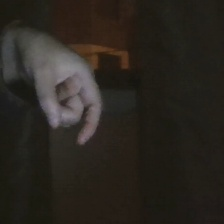Q: (5, 12, 123, 153)
